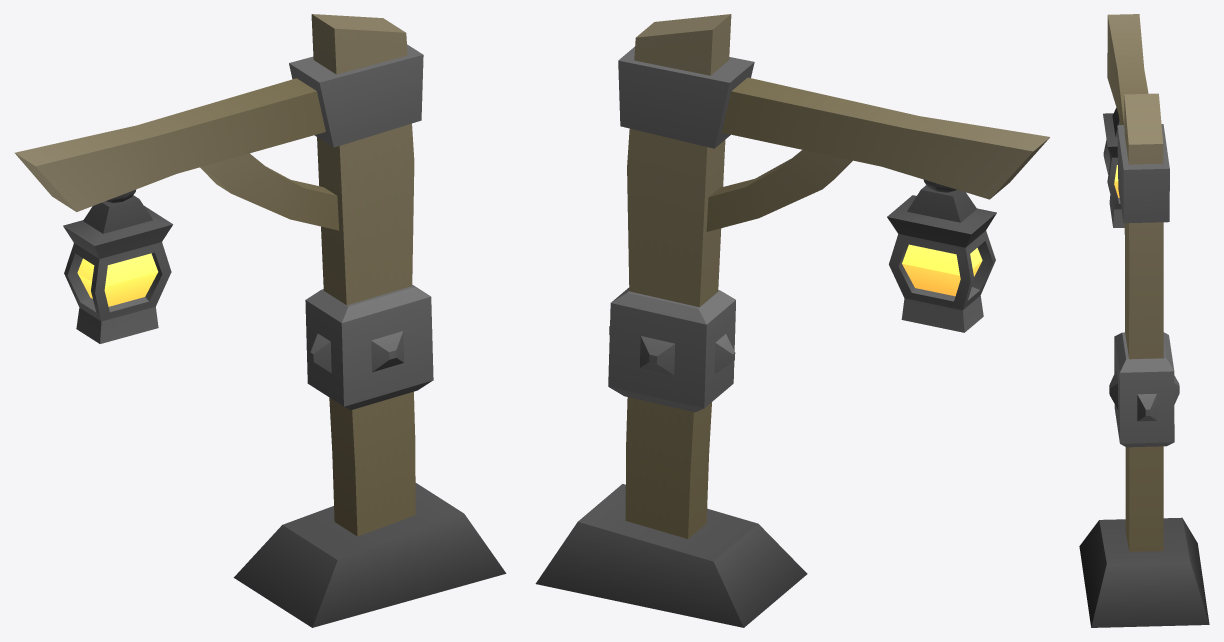
Rendered from lamp.003_lev1.glb.
3 views of the same model, side by side, from view 1: azimuth 30°, elevation 25°; view 2: azimuth 150°, elevation 25°; view 3: azimuth 270°, elevation 25° (orthographic). The views are drawn at different scales.
Parts seen in each view (by area): view 1: lamp.003_lev1; view 2: lamp.003_lev1; view 3: lamp.003_lev1.
Boxes of the visible parts, bbox=[...] form: lamp.003_lev1: bbox=[14, 14, 506, 627]; lamp.003_lev1: bbox=[535, 14, 1049, 627]; lamp.003_lev1: bbox=[1079, 14, 1209, 627].
Size of the model in its own units: 20.12 by 23.56 by 5.89.
1 material, 1 textured.
